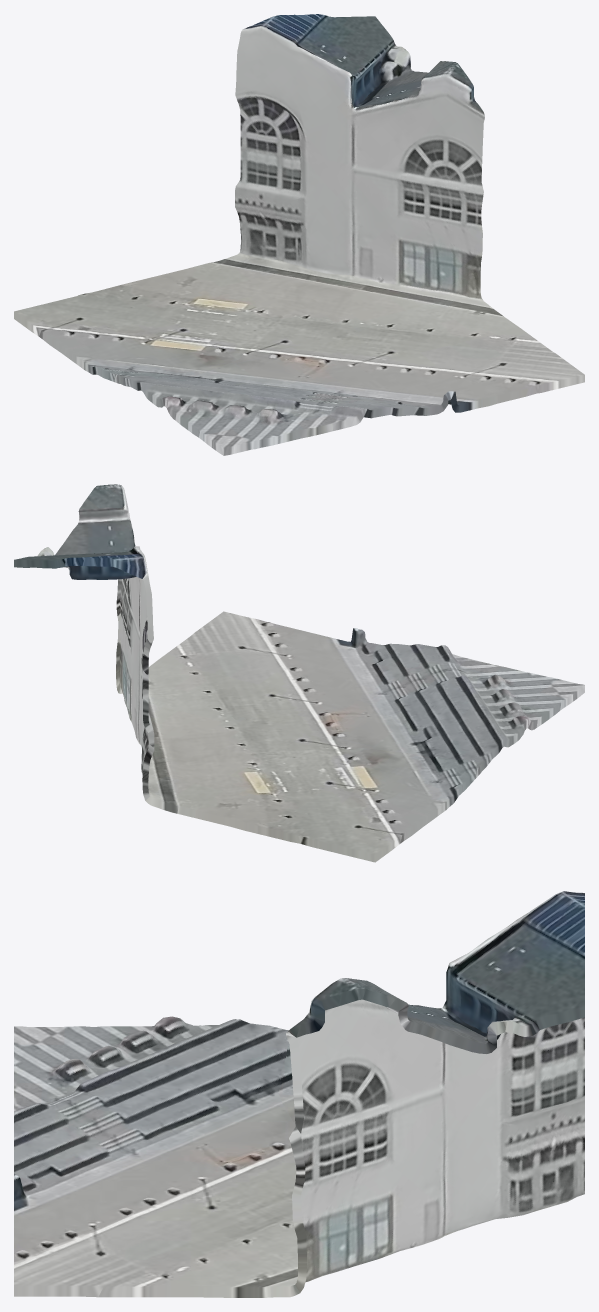
Rendered from z20-167793-405223-h0-yup-uvflip-v3-world.glb.
3 renders of one model, top to bottom at view 1: azimuth 30°, elevation 25°; view 2: azimuth 150°, elevation 25°; view 3: azimuth 270°, elevation 25°, orthographic. The views are drawn at different scales.
Bounding box in the file's own units: 30.16 × 19.16 × 30.32.
1 material, 1 textured.
